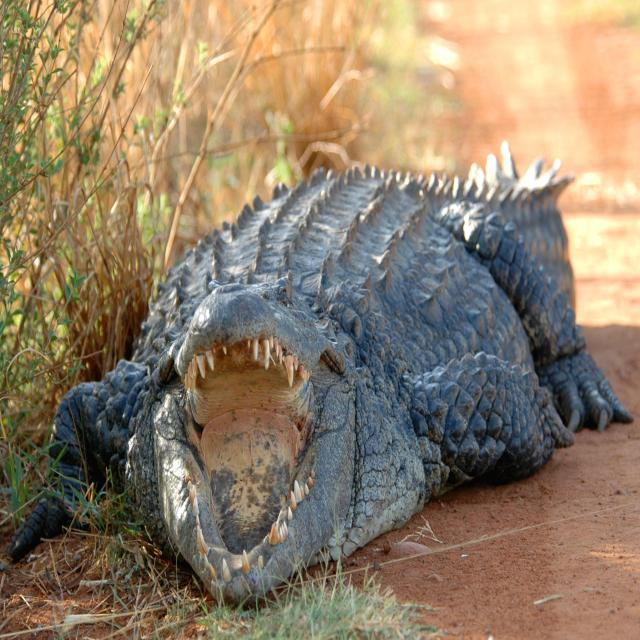crocodile: (8, 135, 633, 618)
